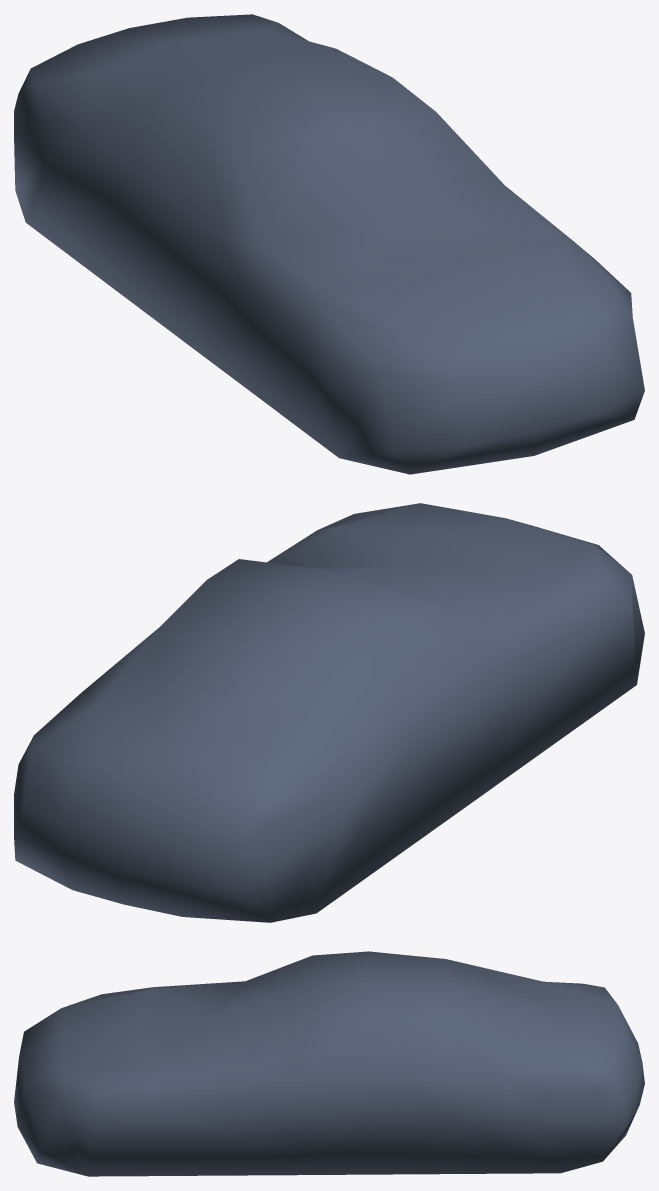
Rendered from RealisticCar05_HD_CollisionMesh.FBX.
3 renders of one model, top to bottom at view 1: azimuth 30°, elevation 25°; view 2: azimuth 150°, elevation 25°; view 3: azimuth 270°, elevation 25°, orthographic. The views are drawn at different scales.
Parts seen in each view (by area): view 1: RealisticCar05_HD_CollisionMesh; view 2: RealisticCar05_HD_CollisionMesh; view 3: RealisticCar05_HD_CollisionMesh.
Part boxes in pixels (box(x1,y1,x2,y2)): RealisticCar05_HD_CollisionMesh: box(14, 14, 644, 474); RealisticCar05_HD_CollisionMesh: box(14, 503, 644, 922); RealisticCar05_HD_CollisionMesh: box(14, 951, 644, 1176).
Bounding box in the file's own units: 1.96 × 4.78 × 1.2.
